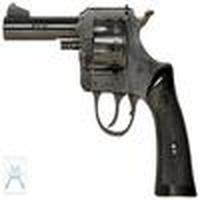gun: (2, 7, 190, 200)
